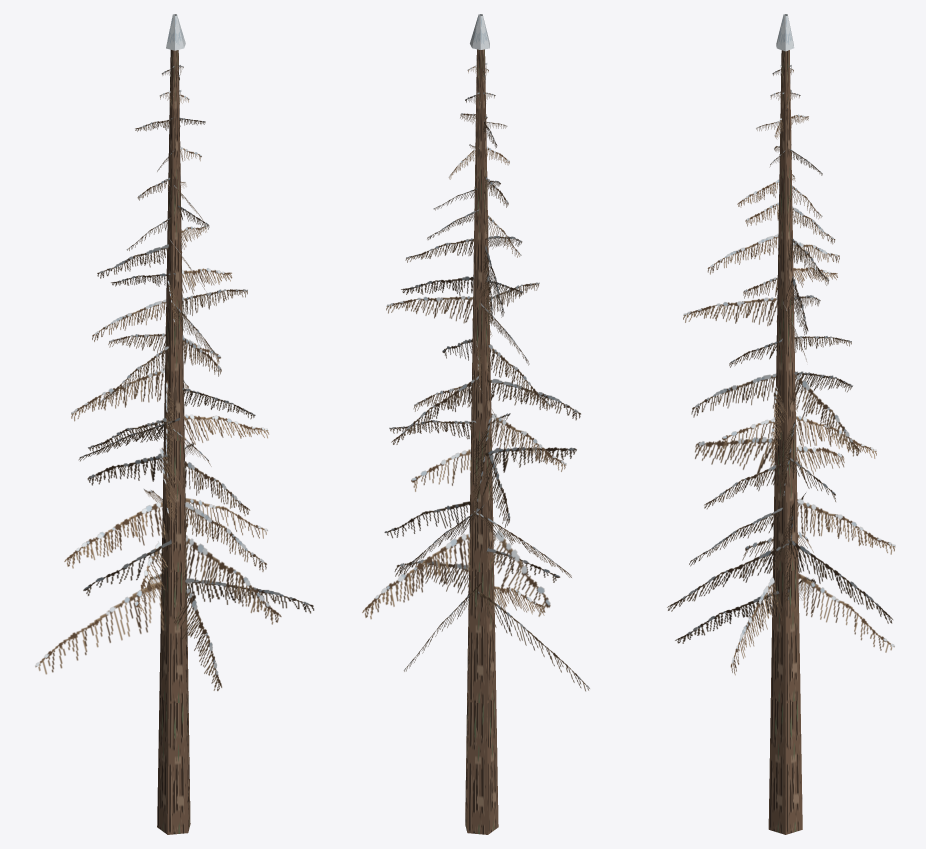
The model's file is Larch.glb.
The picture shows the model from 3 angles, left to right: view 1: azimuth 30°, elevation 25°; view 2: azimuth 150°, elevation 25°; view 3: azimuth 270°, elevation 25°; orthographic projection.
Parts seen in each view (by area): view 1: Larch; view 2: Larch; view 3: Larch.
Boxes of the visible parts, <box> form: Larch: <box>35,14,314,834</box>; Larch: <box>362,14,589,834</box>; Larch: <box>667,14,895,834</box>.
Bounding box in the file's own units: 2.44 × 7.3 × 2.15.
1 material, 1 textured.
